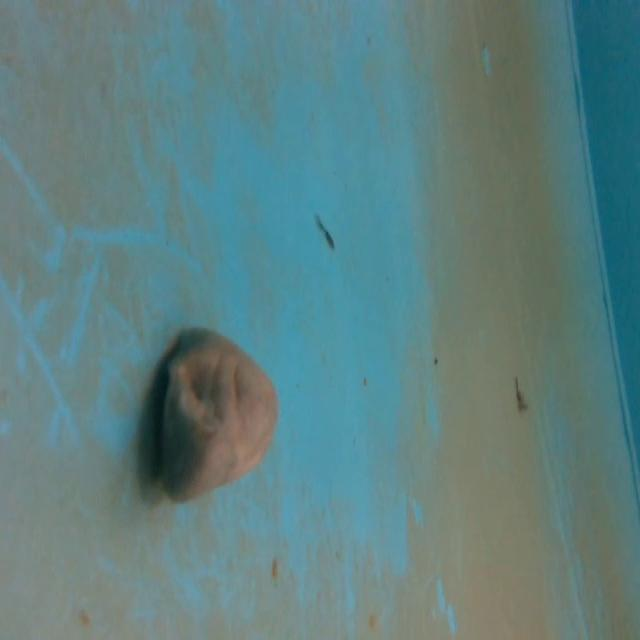rock: (148, 323, 282, 509)
